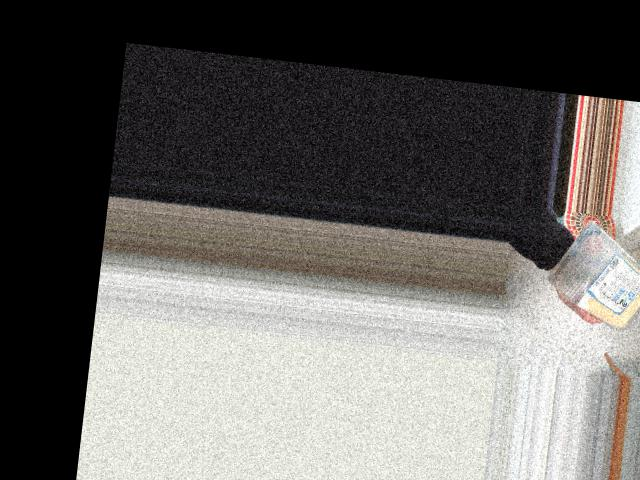cheese: (558, 227, 640, 320)
